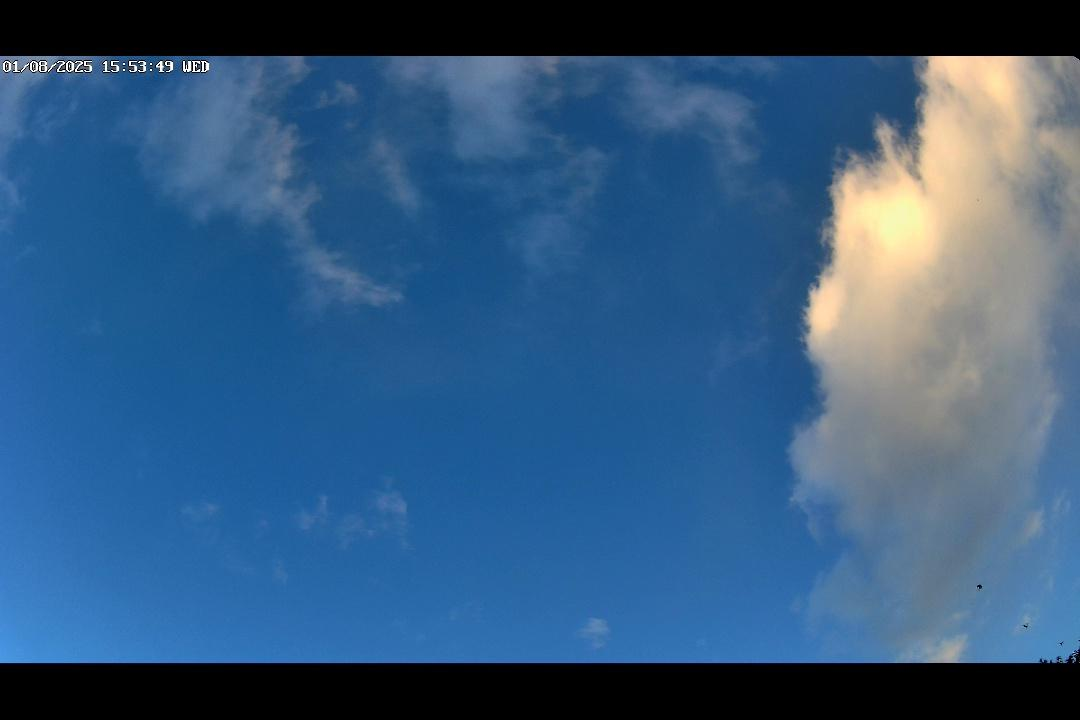WildLife: (1014, 618, 1041, 631), (966, 580, 989, 594), (1052, 637, 1072, 649)
